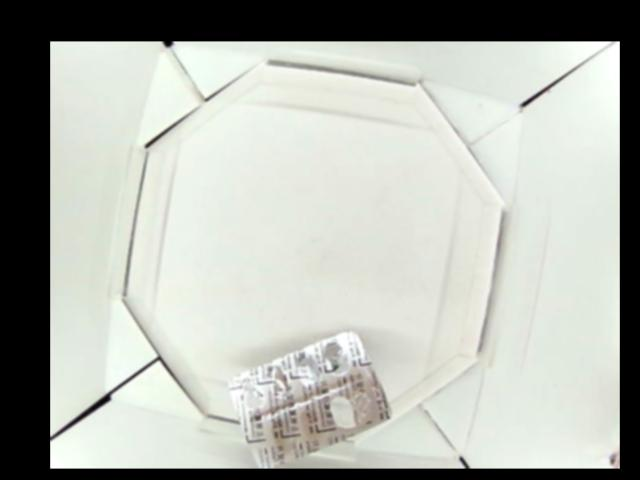Medicine: (227, 326, 390, 467)
